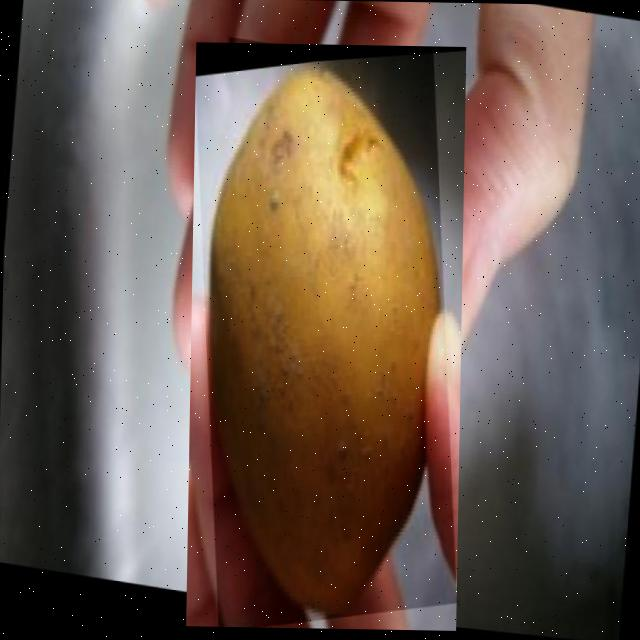Potato: (185, 42, 466, 630)
